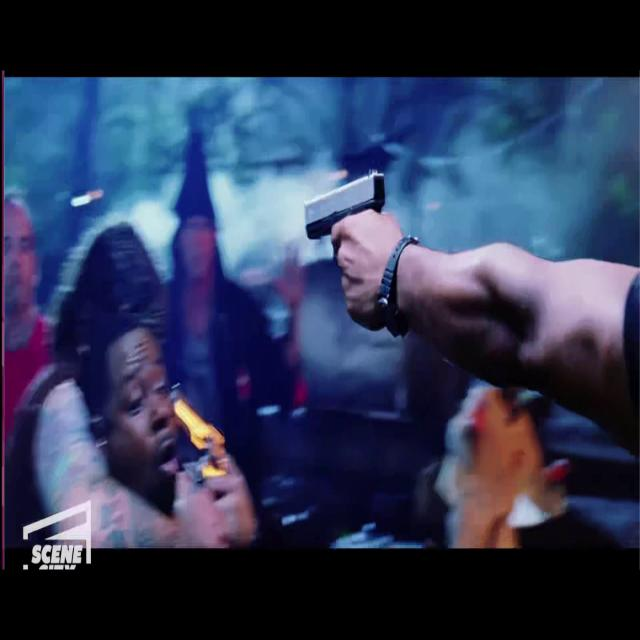weapons: (296, 154, 396, 322)
